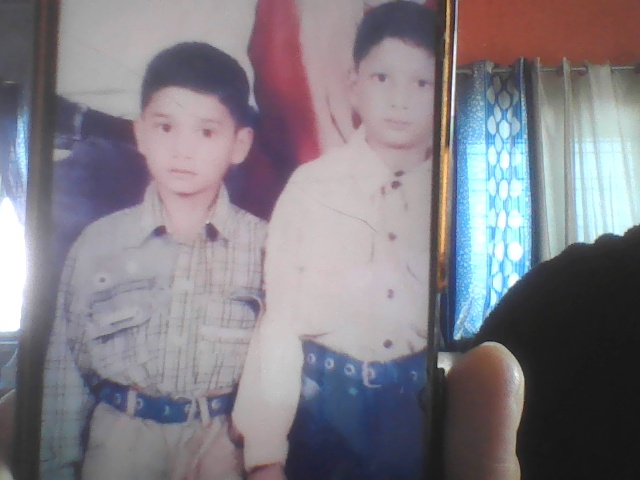fake: (319, 0, 460, 200), (141, 55, 246, 204)
